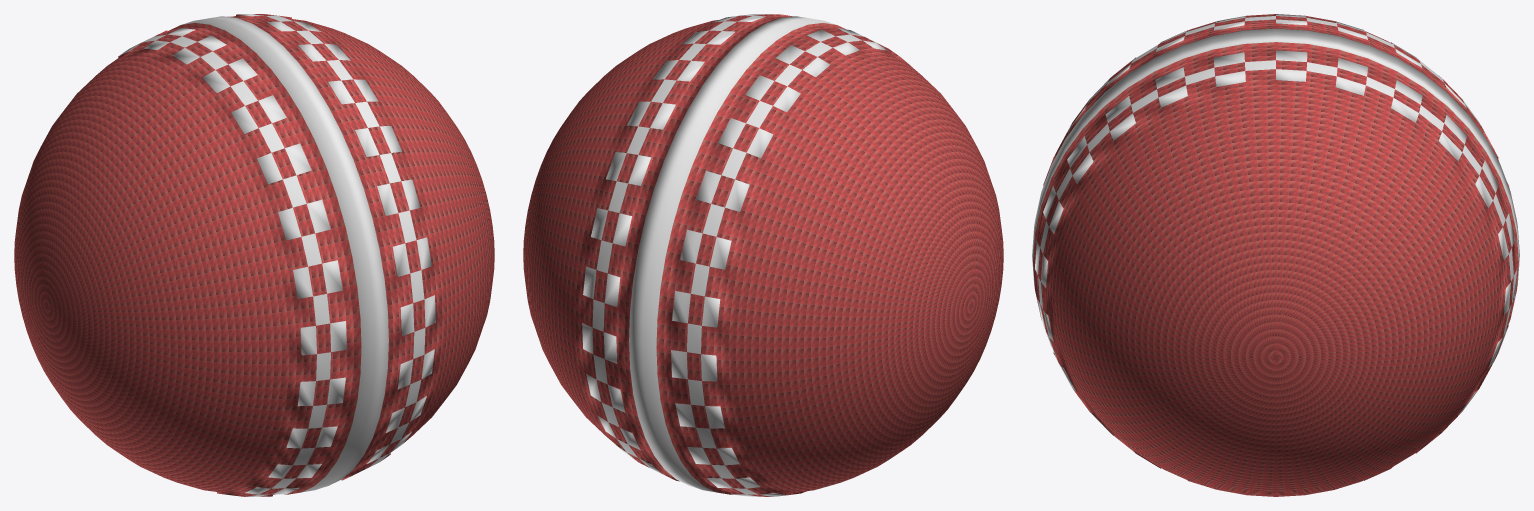
Rendered from cricket_ball_old.fbx.
3 views of the same model, side by side, from view 1: azimuth 30°, elevation 25°; view 2: azimuth 150°, elevation 25°; view 3: azimuth 270°, elevation 25° (orthographic).
Parts seen in each view (by area): view 1: ball_old; view 2: ball_old; view 3: ball_old.
Part boxes in pixels (x1=…): ball_old: x1=14, y1=14, x2=494, y2=496; ball_old: x1=523, y1=14, x2=1003, y2=496; ball_old: x1=1032, y1=14, x2=1519, y2=496.
Size of the model in its own units: 7.2 by 7.27 by 7.27.
